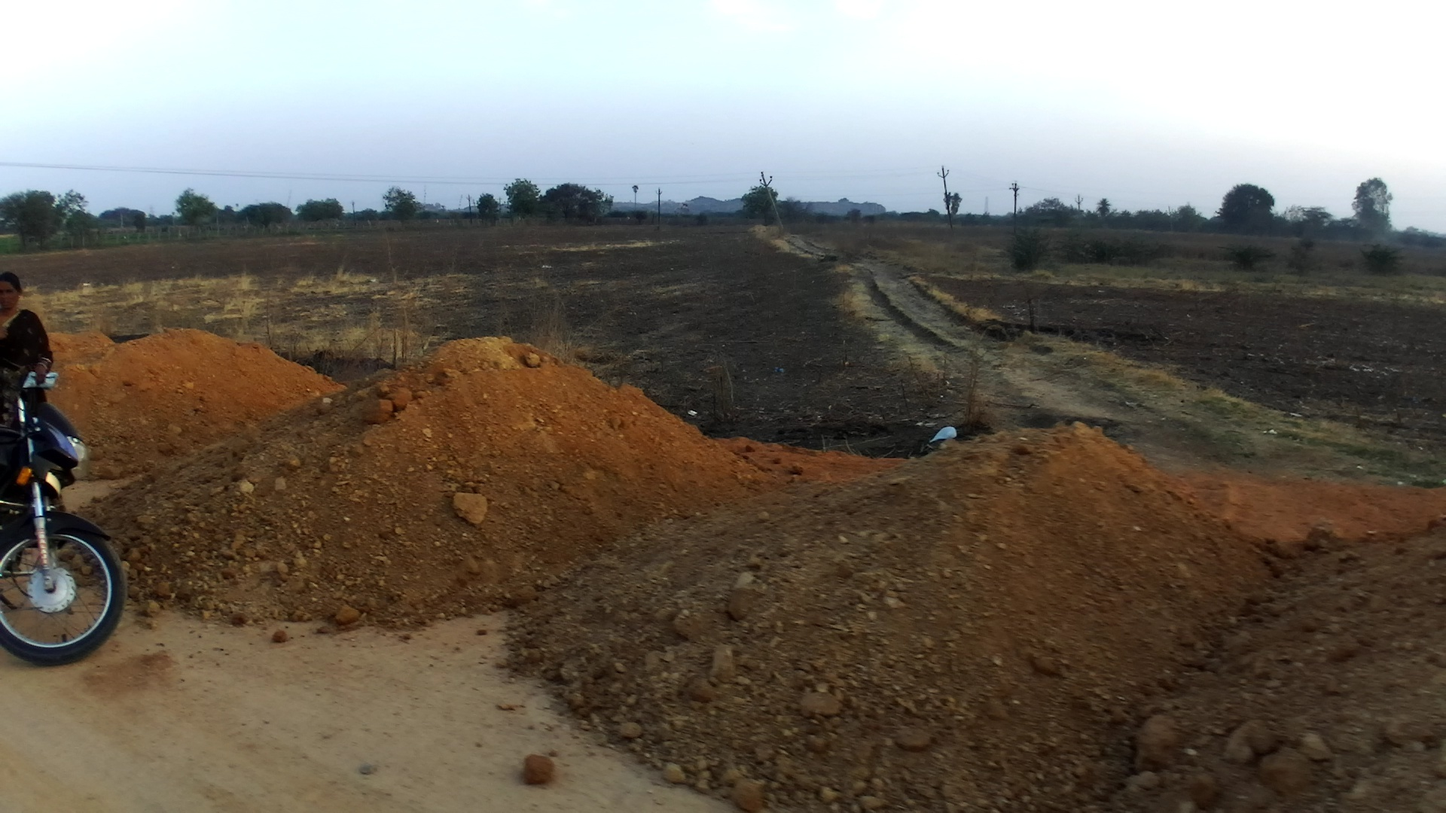motorcycle: (0, 364, 127, 669)
rider: (1, 266, 57, 479)
